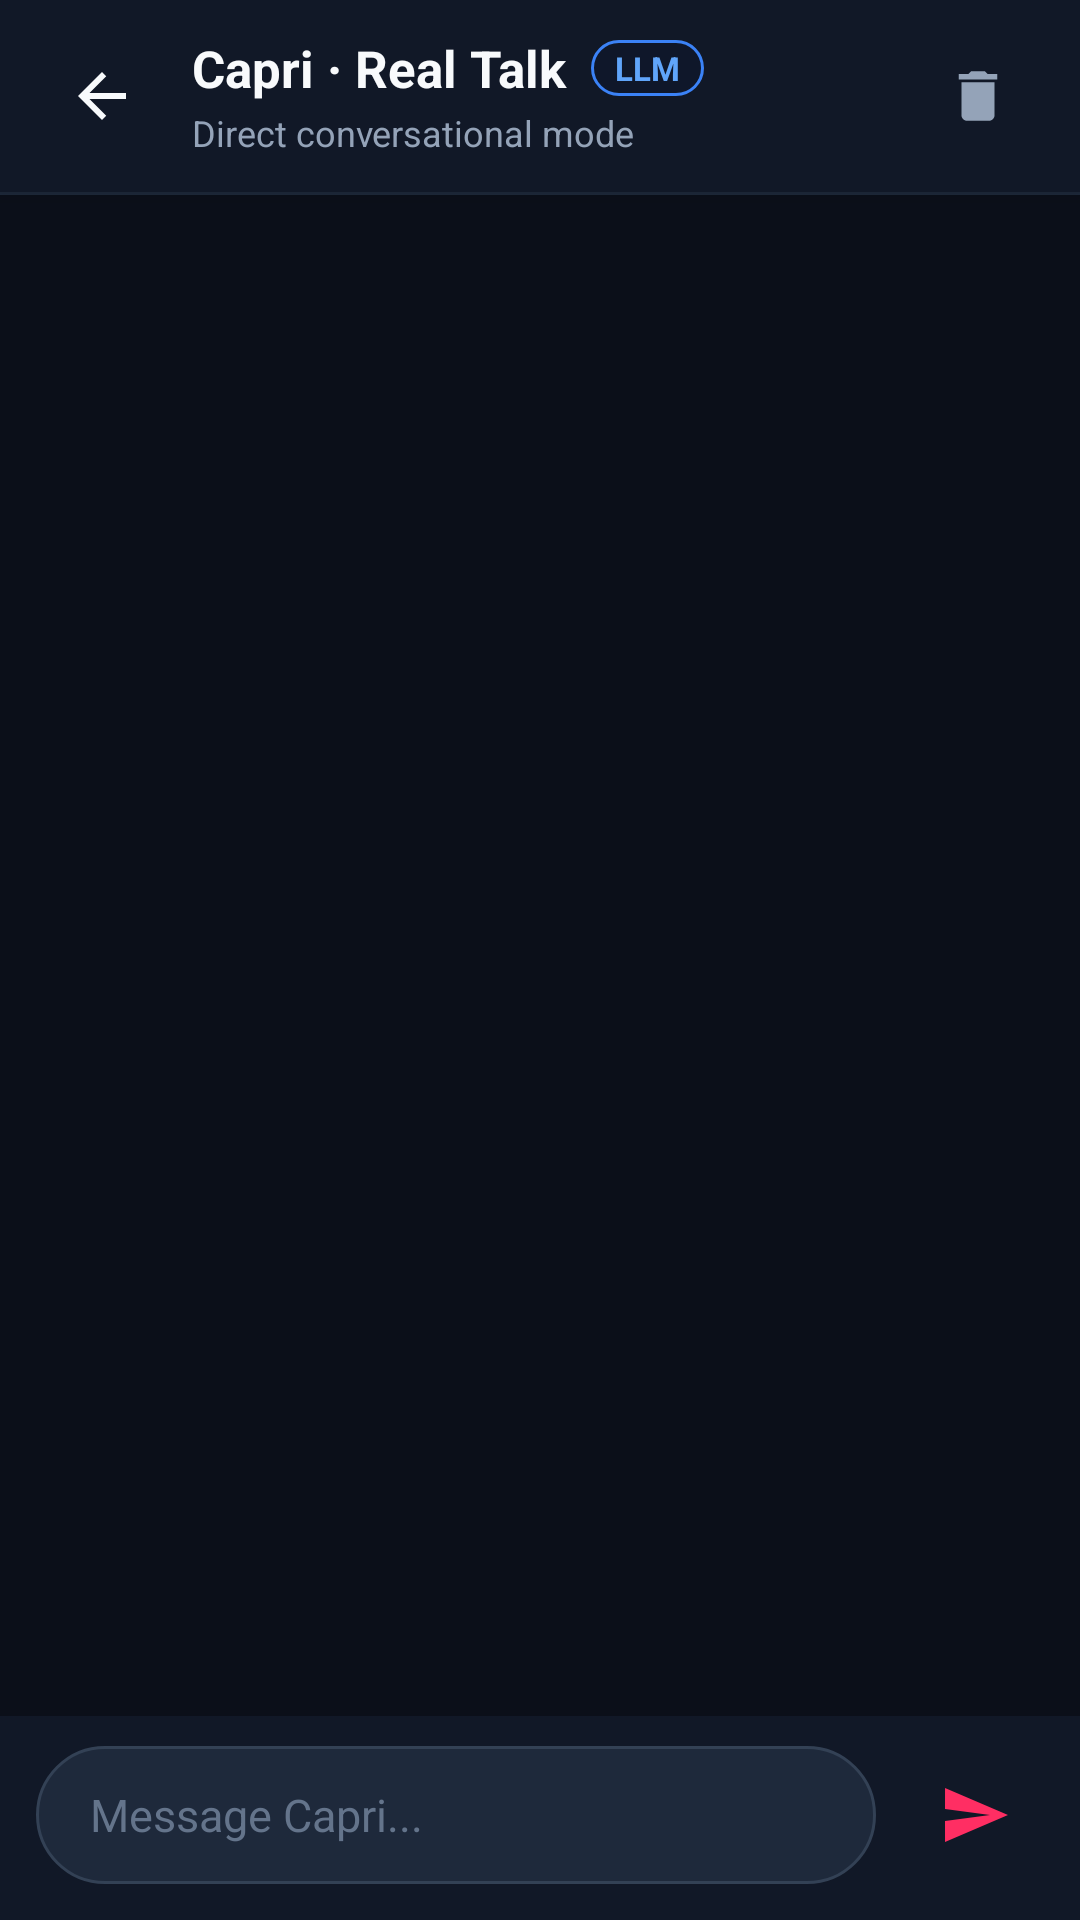

Icons on this 1080×1920 Android screen, each with the point to tap as (x=x, y=y):
Back: (x=102, y=96)
Clear conversation: (x=978, y=96)
Send message: (x=976, y=1815)
